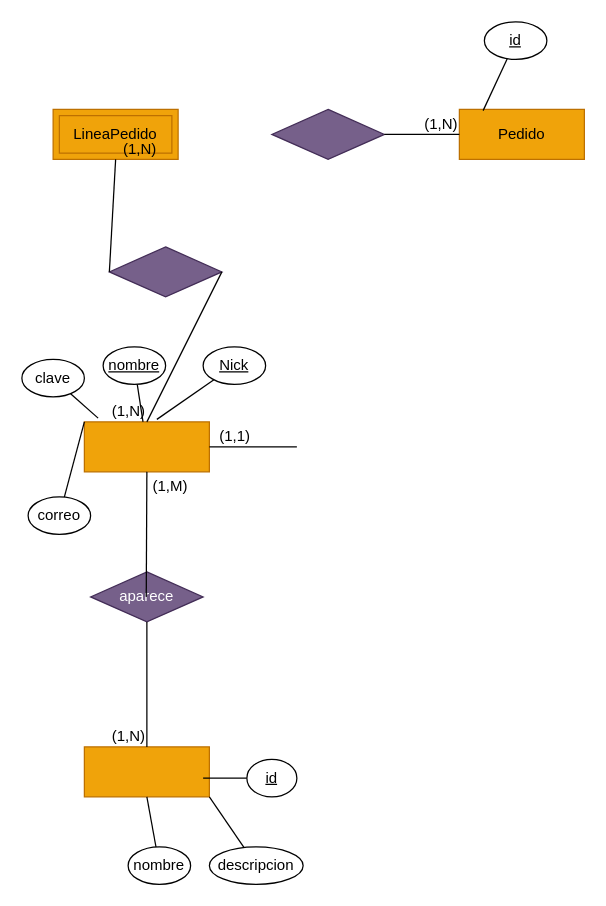
Image size: 606x906. Some labels were removed from this diagram. The box of each missing label's shape, as (x1, y1, x2, y2) in pixels:
escribe: (271, 108, 384, 159)
Fotografia: (83, 746, 209, 797)
relacion: (108, 246, 222, 297)
Usuario: (83, 421, 209, 472)
